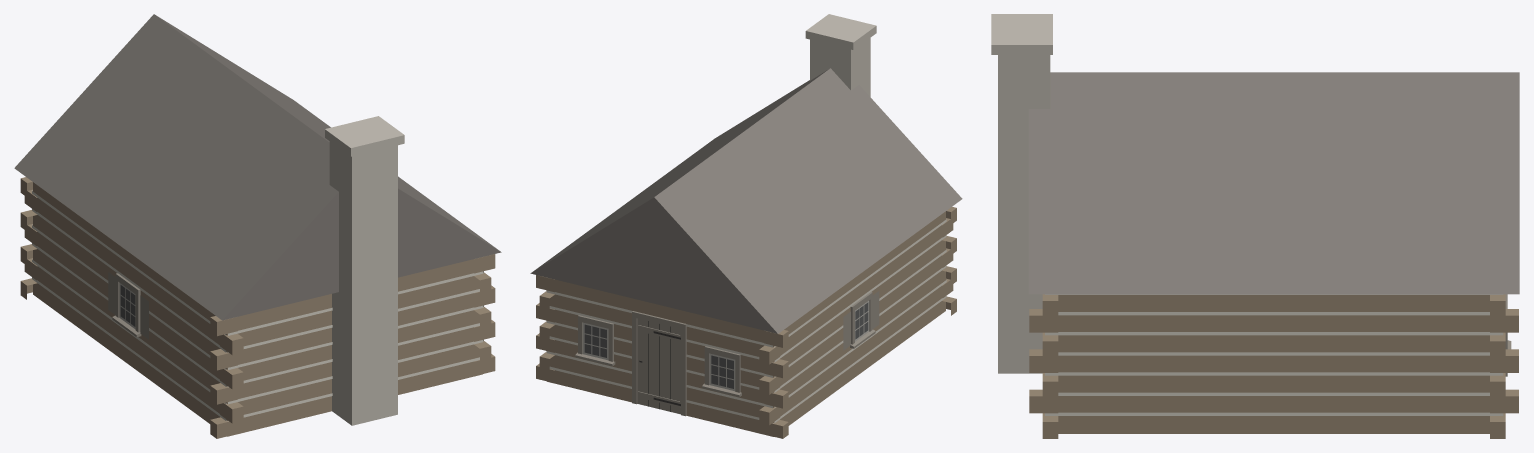
File: recon_1835_north_d1_001__inferred_1835.glb
3 renders of one model, left to right at view 1: azimuth 30°, elevation 25°; view 2: azimuth 150°, elevation 25°; view 3: azimuth 270°, elevation 25°, orthographic. The views are drawn at different scales.
Parts seen in each view (by area): view 1: recon_1835_north_d1_001__inferred_1835; view 2: recon_1835_north_d1_001__inferred_1835; view 3: recon_1835_north_d1_001__inferred_1835.
Part boxes in pixels (box(x1,y1,x2,y2)): recon_1835_north_d1_001__inferred_1835: box(14, 14, 501, 438); recon_1835_north_d1_001__inferred_1835: box(530, 14, 962, 438); recon_1835_north_d1_001__inferred_1835: box(991, 14, 1519, 438).
Bounding box in the file's own units: 5.82 × 5.58 × 8.07.
